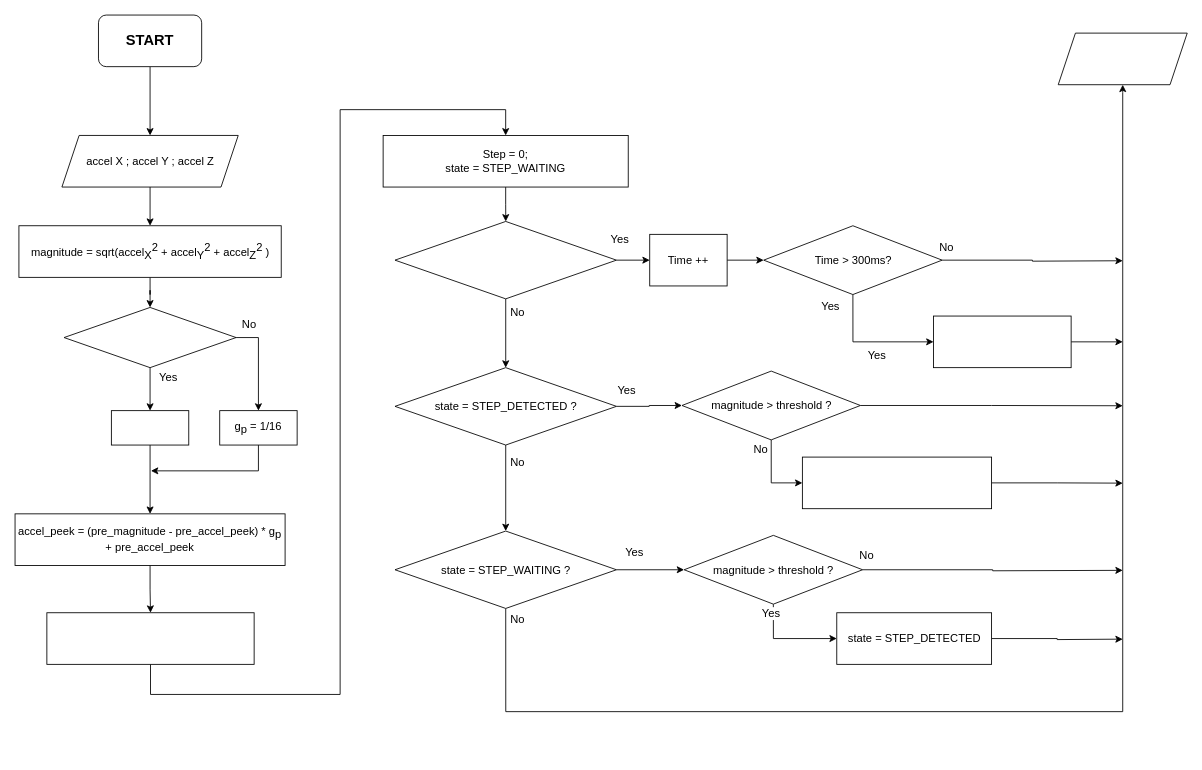
Some shapes in this 1202 by 770 pixel diagram are drawn without their labels. Here are the shapes that lost their labels. From the top down, the centre of each, then its label:
point (1122, 58): step
point (505, 260): state = STEP_NOISE_REDUCTION ?
point (149, 337): magnitude > accel_peek
point (1002, 341): state = STEP_WAITING
point (150, 427): g p = 1/2
point (897, 482): Step ++ Time = 0 State = STEP_NOISE_REDUCTION
point (150, 638): threshold = accel_peek * 1/2
